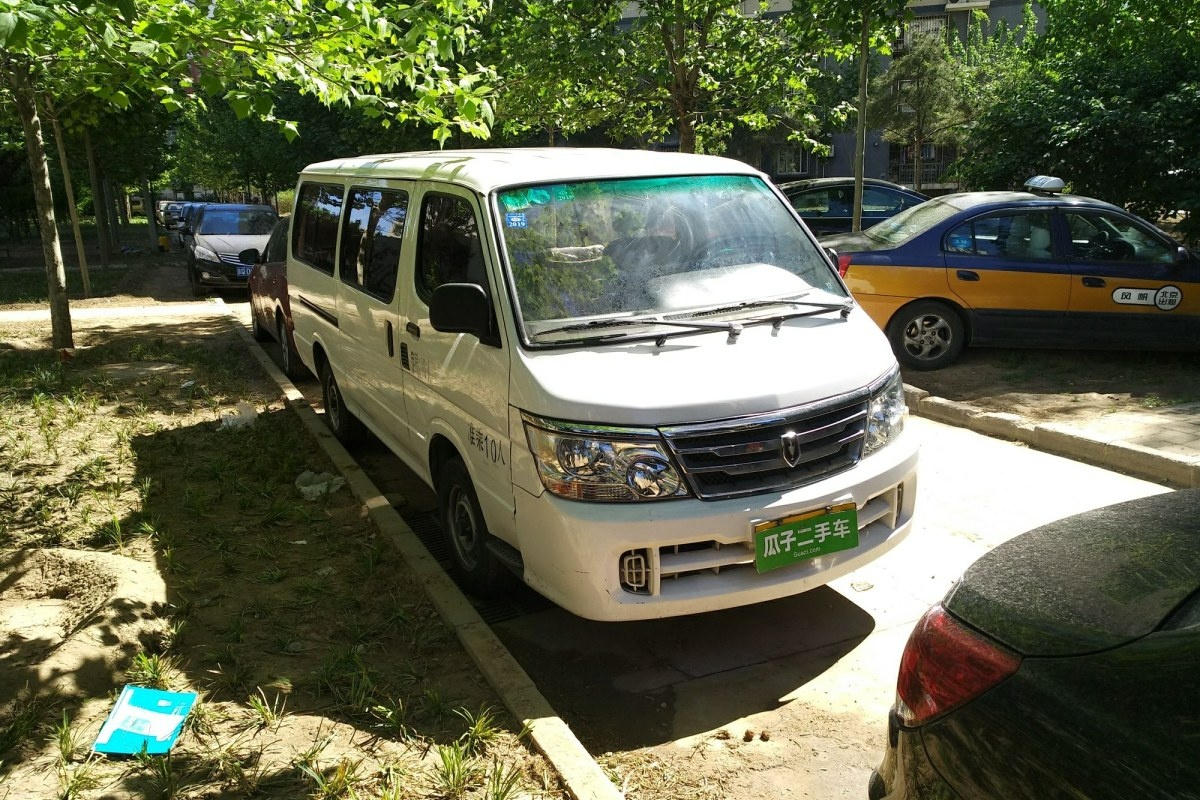minibus: (280, 132, 926, 621)
